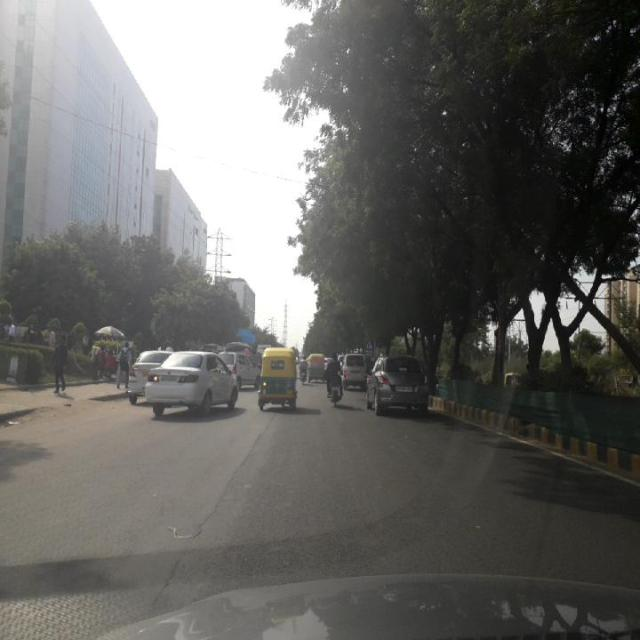D01: (161, 412, 280, 596)
